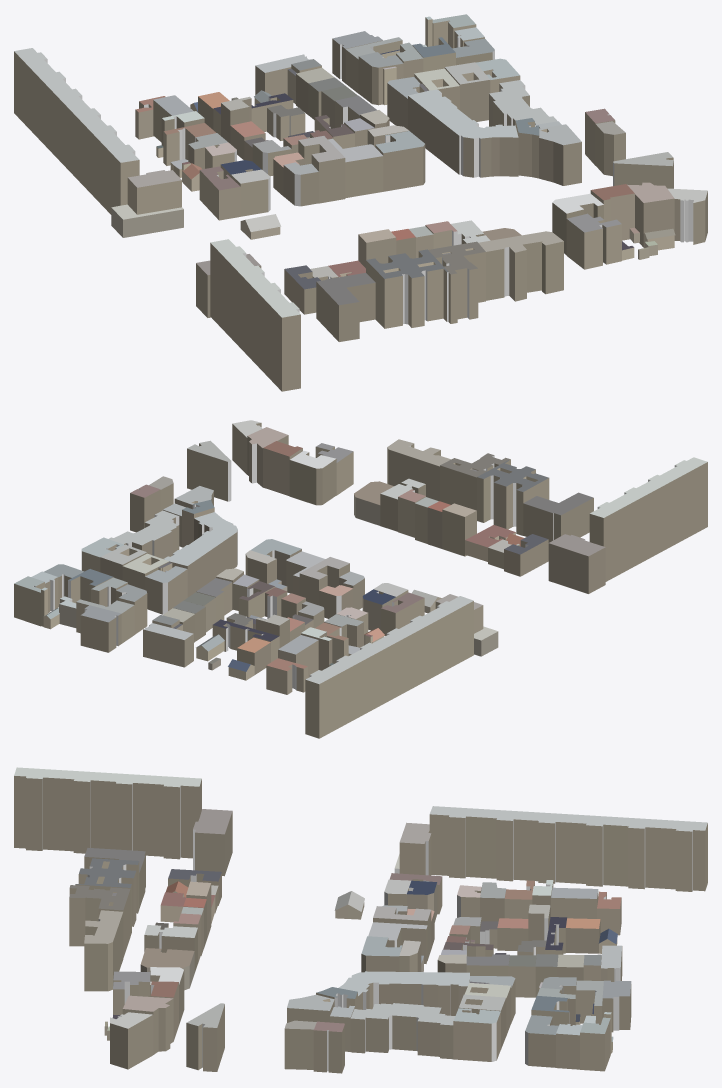
3 views of the same model, one above another, from view 1: azimuth 30°, elevation 25°; view 2: azimuth 150°, elevation 25°; view 3: azimuth 270°, elevation 25° (orthographic). The views are drawn at different scales.
Visible parts, largest first — view 1: tuile; view 2: tuile; view 3: tuile.
Boxes of the visible parts, x1=… form: tuile: x1=14, y1=14, x2=707, y2=391; tuile: x1=14, y1=420, x2=707, y2=738; tuile: x1=14, y1=767, x2=707, y2=1073.
Size of the model in its own units: 265 by 41.2 by 333.
